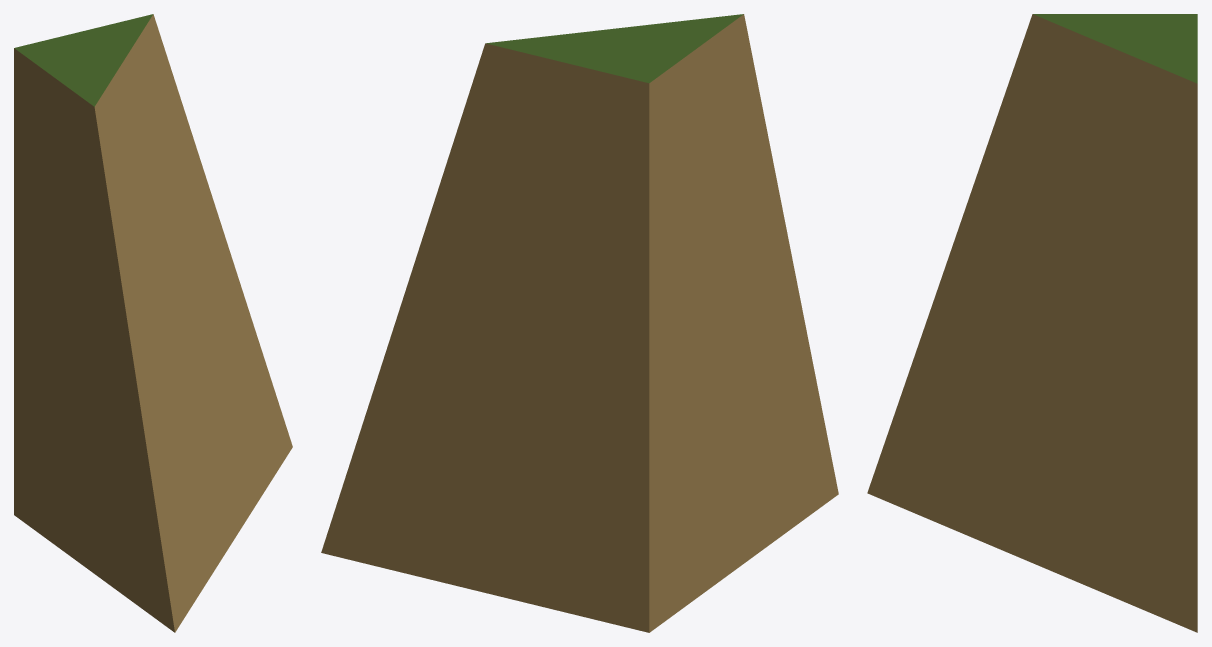
Rendered from Terrain_Modular_Tiles_Grass_Dirt_Cliff_Side_Outer_Corner_01.fbx.
3 renders of one model, left to right at view 1: azimuth 30°, elevation 25°; view 2: azimuth 150°, elevation 25°; view 3: azimuth 270°, elevation 25°, orthographic. The views are drawn at different scales.
Parts seen in each view (by area): view 1: Terrain_Modular_Tiles_Grass_Dirt_Cliff_Side_Outer_Corner_01; view 2: Terrain_Modular_Tiles_Grass_Dirt_Cliff_Side_Outer_Corner_01; view 3: Terrain_Modular_Tiles_Grass_Dirt_Cliff_Side_Outer_Corner_01.
Boxes of the visible parts, left/top/right/bottom form: Terrain_Modular_Tiles_Grass_Dirt_Cliff_Side_Outer_Corner_01: left=14, top=14, right=292, bottom=632; Terrain_Modular_Tiles_Grass_Dirt_Cliff_Side_Outer_Corner_01: left=321, top=14, right=838, bottom=632; Terrain_Modular_Tiles_Grass_Dirt_Cliff_Side_Outer_Corner_01: left=867, top=14, right=1197, bottom=632.
Bounding box in the file's own units: 1500 × 2400 × 1500.
